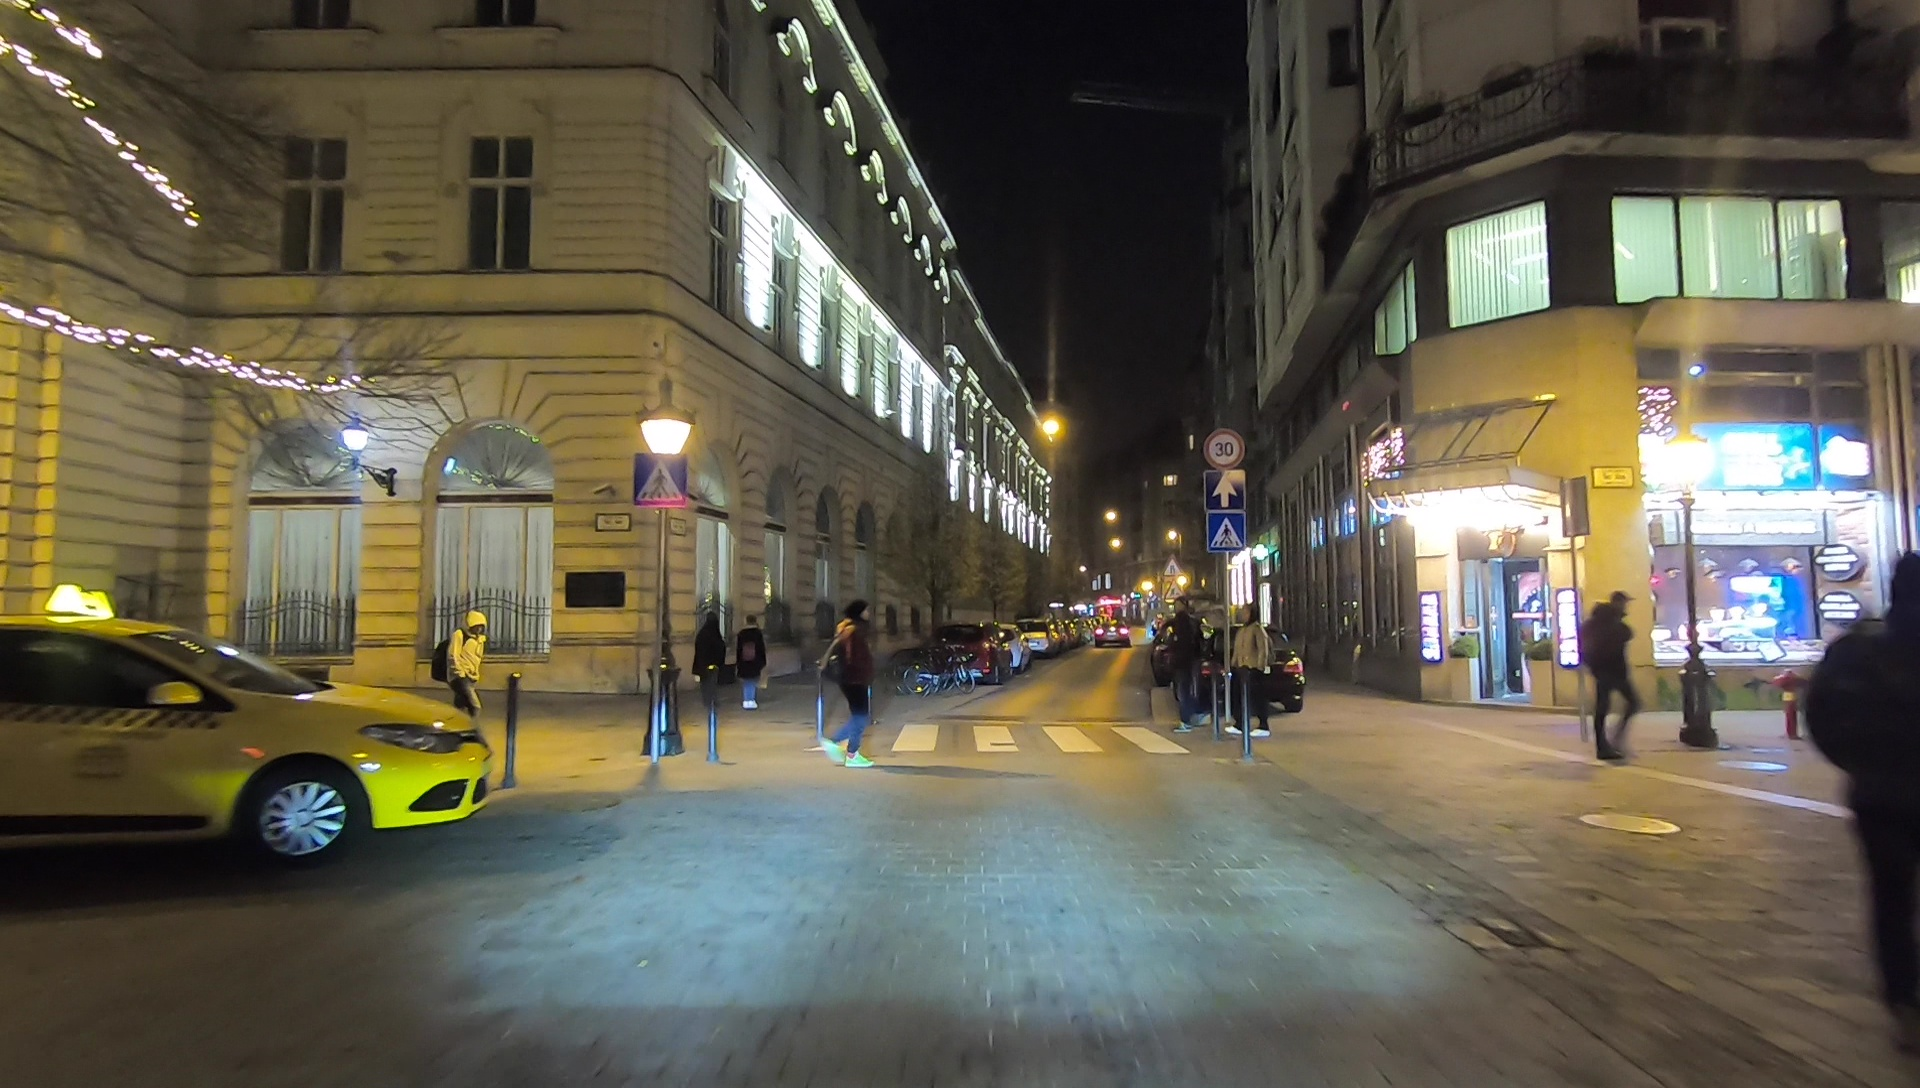person: (1812, 552, 1920, 1067), (1586, 591, 1641, 765), (823, 593, 875, 769), (1226, 597, 1278, 736), (438, 608, 491, 737), (1167, 591, 1206, 734), (688, 606, 726, 713), (732, 615, 764, 713)
